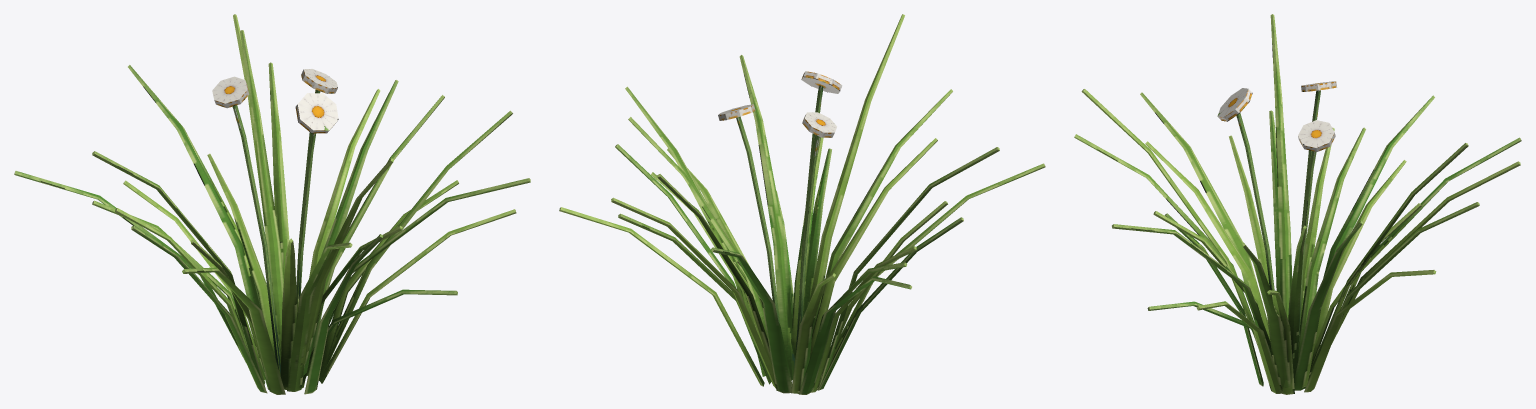
Rendered from Grass_Tuft_01.fbx.
3 views of the same model, side by side, from view 1: azimuth 30°, elevation 25°; view 2: azimuth 150°, elevation 25°; view 3: azimuth 270°, elevation 25° (orthographic). The views are drawn at different scales.
Visible parts, largest first — view 1: Grass_Tuft_01; view 2: Grass_Tuft_01; view 3: Grass_Tuft_01.
Boxes of the visible parts, x1,y1,x2,y2 form: Grass_Tuft_01: (14,14,530,394); Grass_Tuft_01: (559,14,1045,394); Grass_Tuft_01: (1074,14,1521,394).
Bounding box in the file's own units: 0.5645 × 0.4091 × 0.5703.
1 material, 1 textured.
